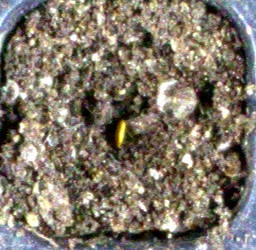pepper seed: (50, 43, 179, 194)
